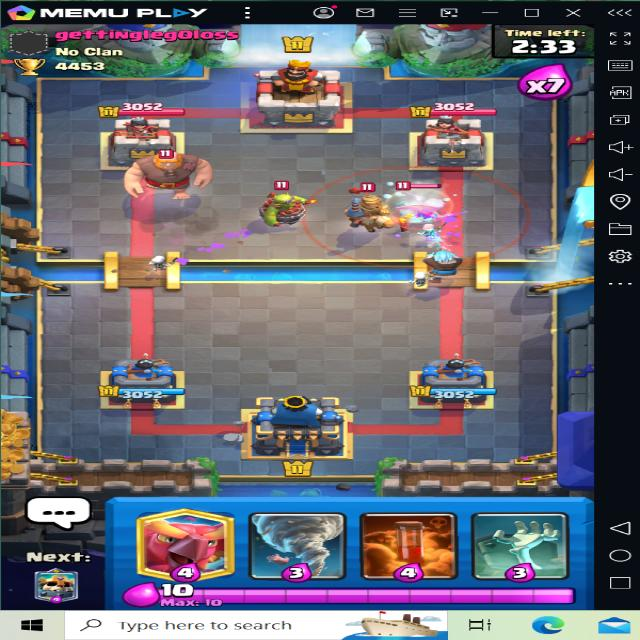battle-healer: (395, 185, 464, 228)
giant: (123, 146, 212, 200)
goblin-demolisher: (255, 184, 314, 229)
prince: (345, 184, 404, 236)
